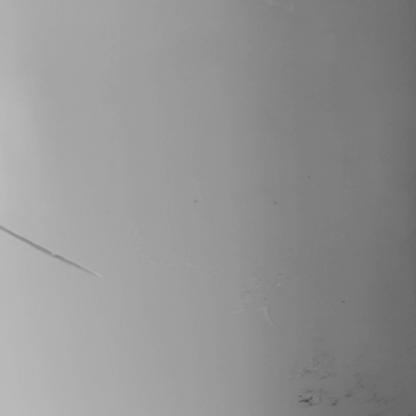sunshang: (1, 225, 94, 280)
